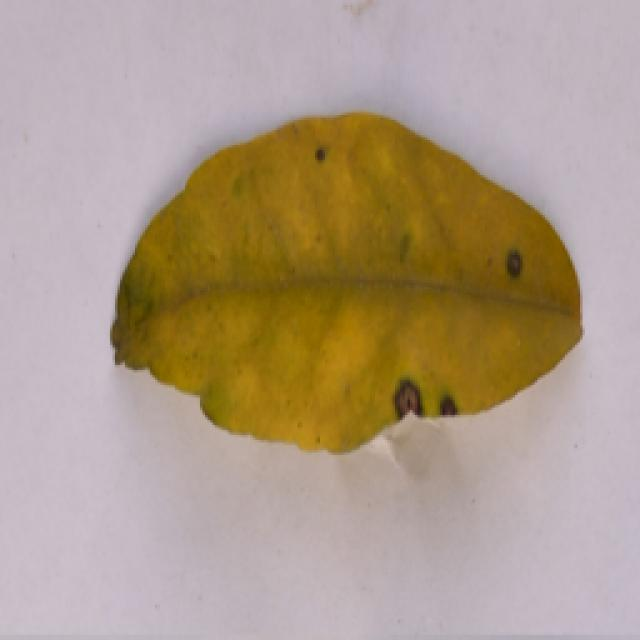canker: (138, 130, 552, 432)
